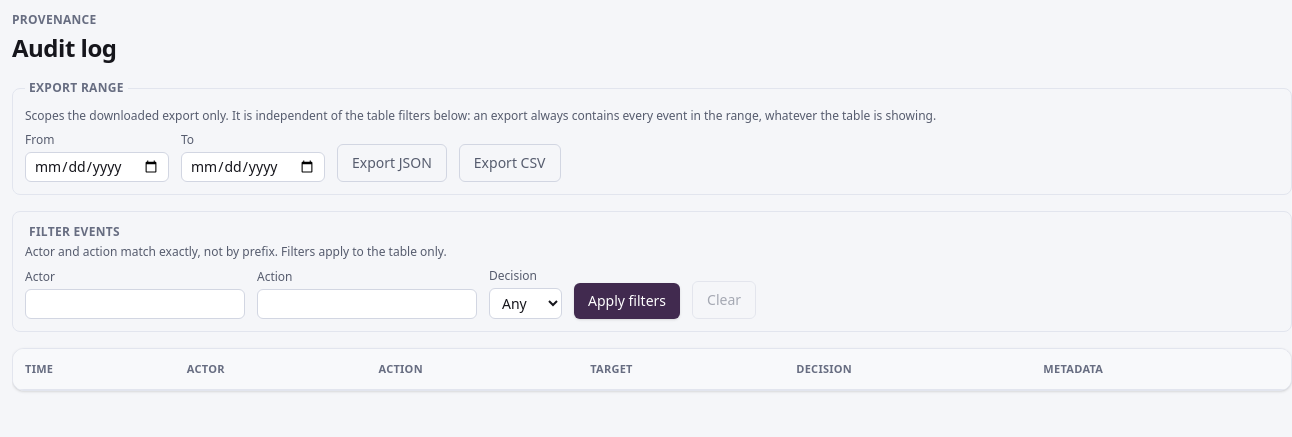
Test case: a hung export that the hard timeout aborts settles the button and shows a signal, rather than leaving it enabled forever
This screenshot has width=1292, height=437.
Step 1. Click the button "Export JSON" → point(392, 163), box [337, 144, 447, 182]
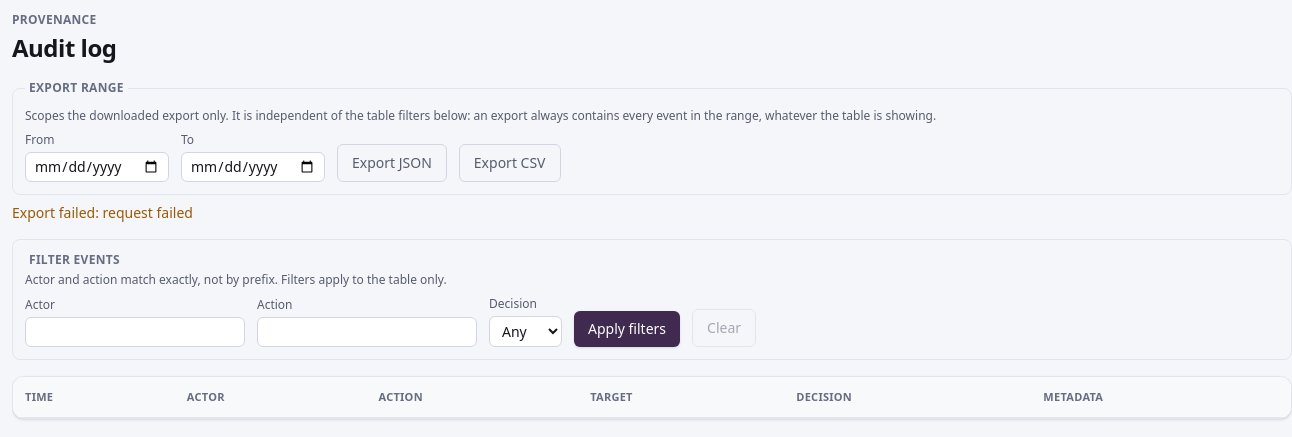
Now the text "Export failed: request failed" is shown, box [12, 203, 193, 222]
